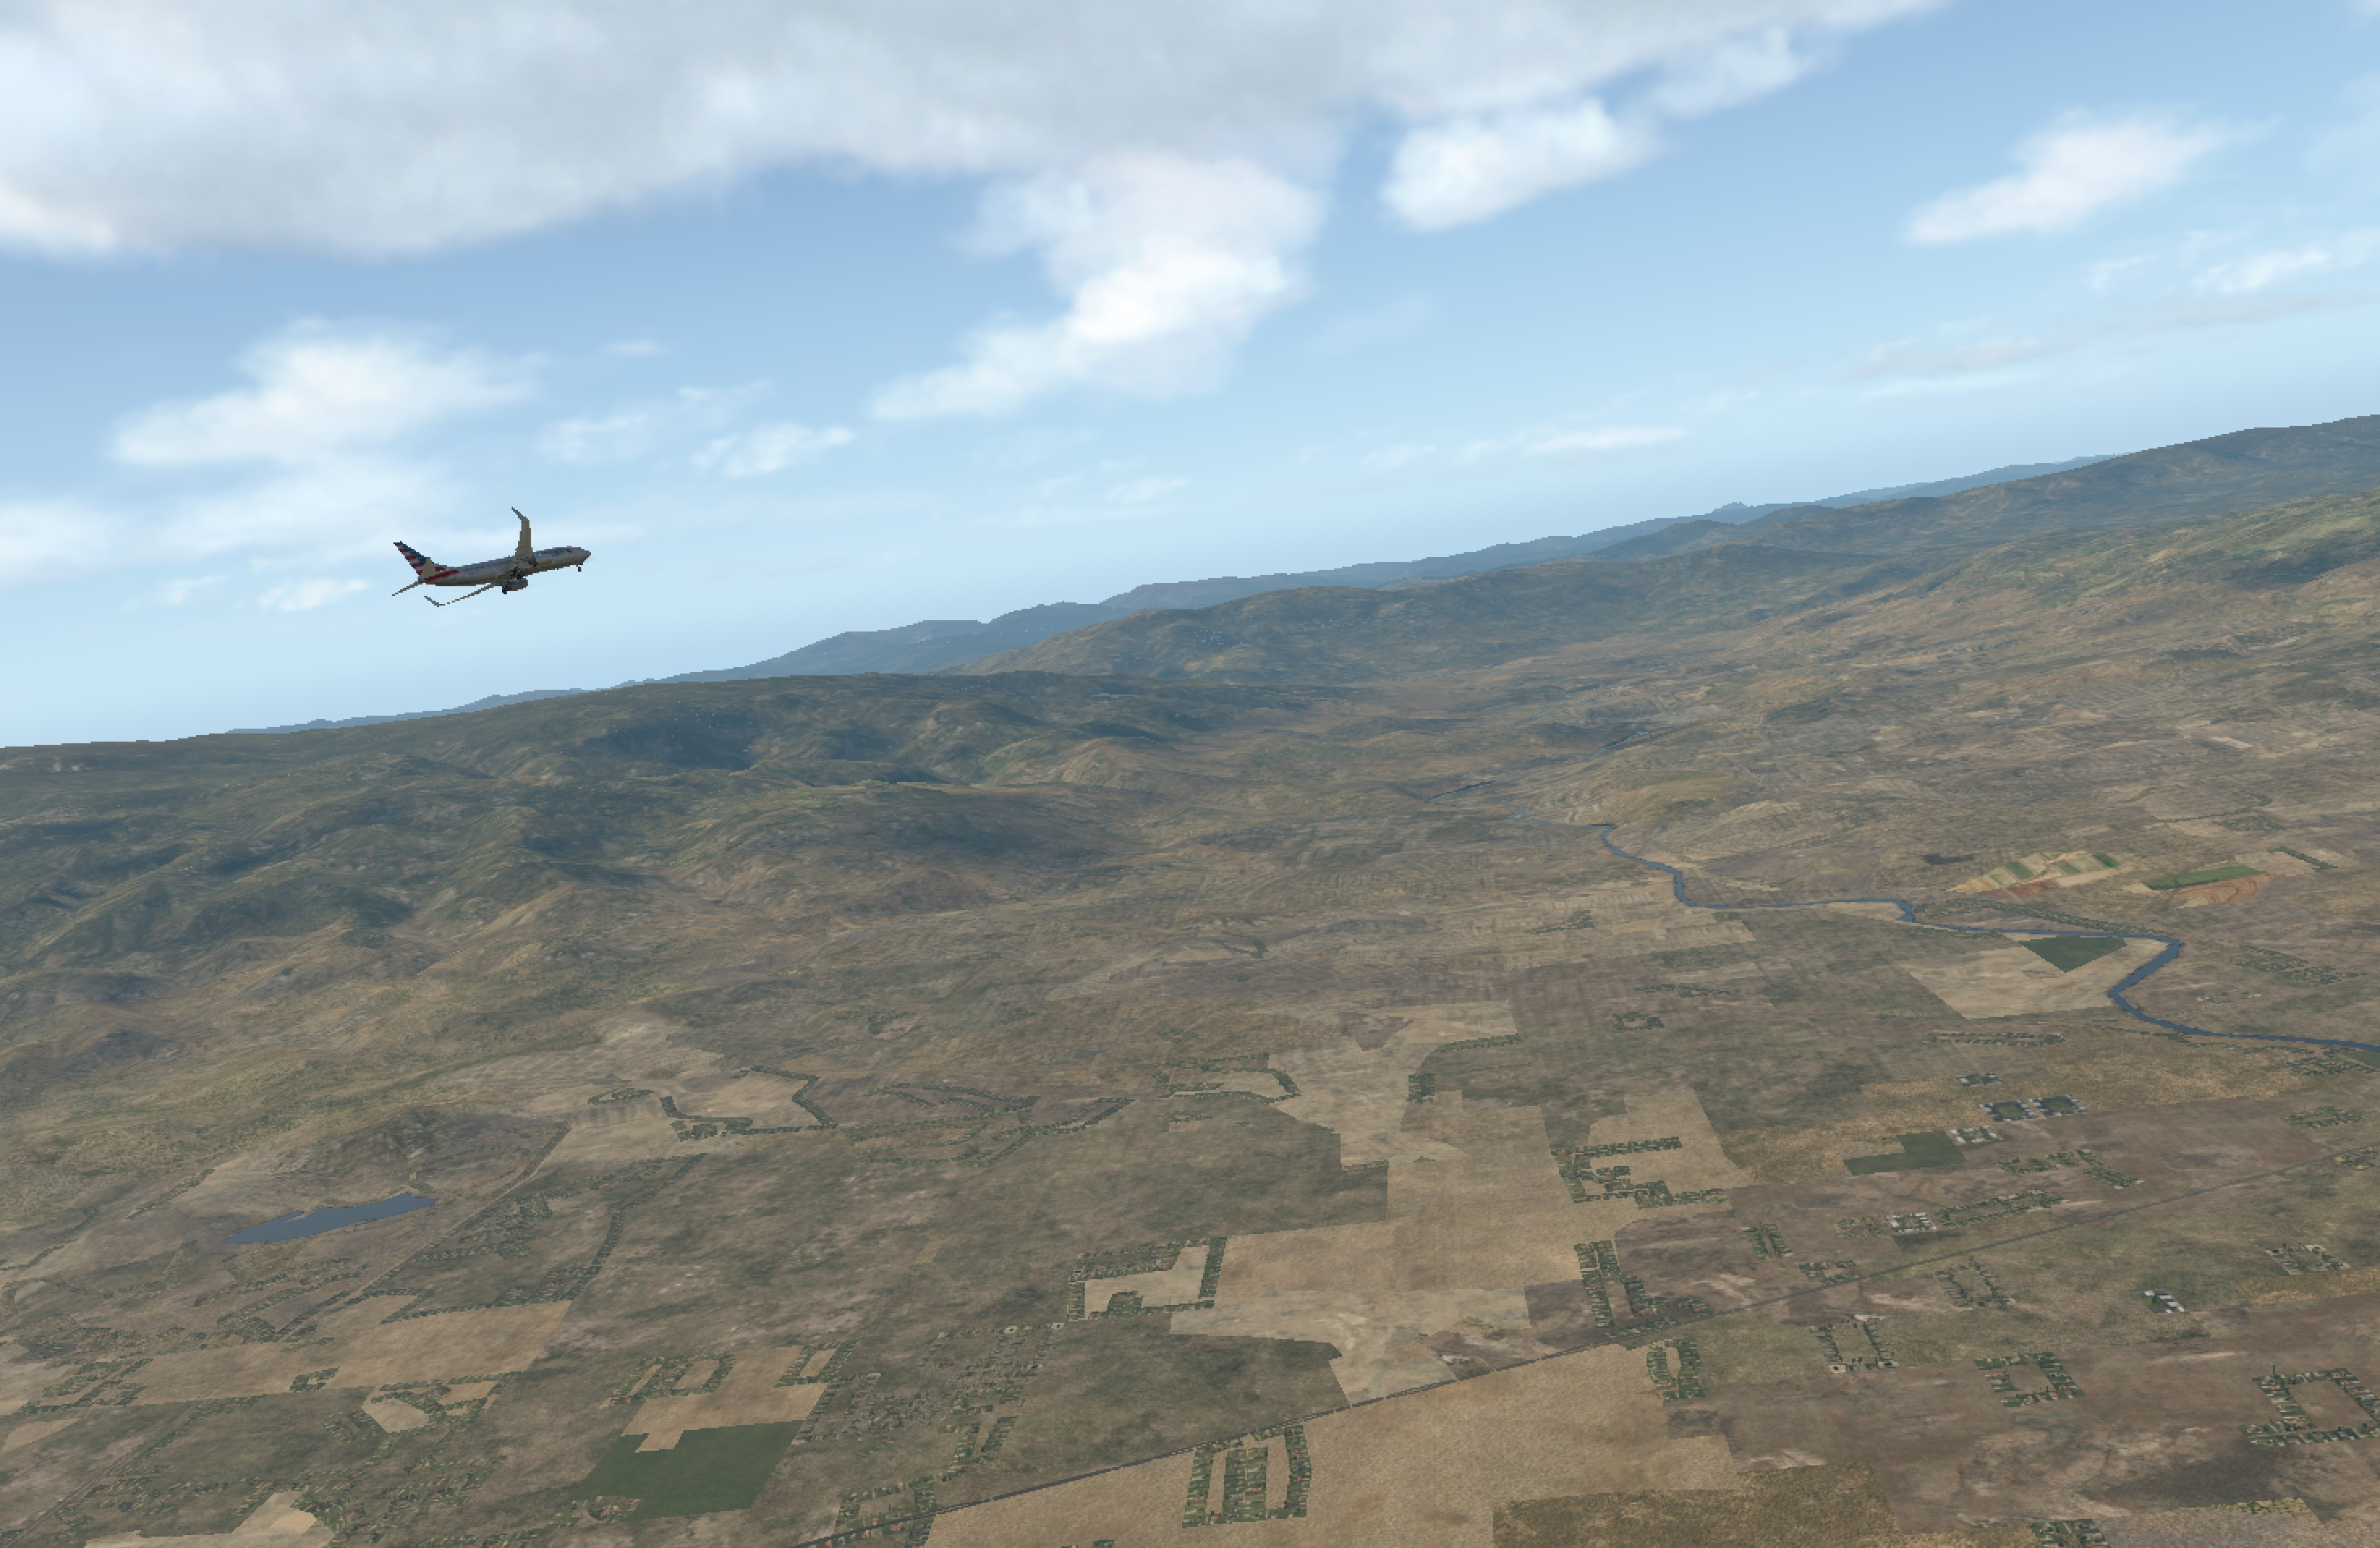aircraft: (415, 533, 612, 607)
